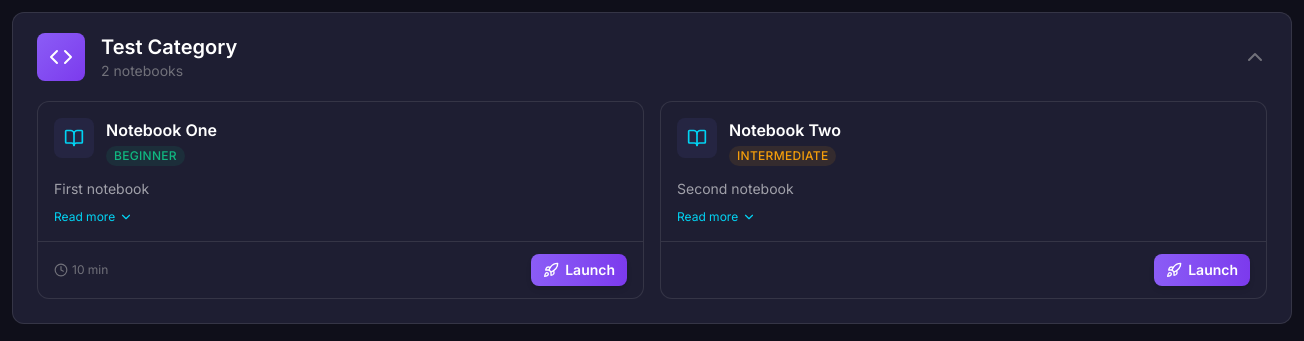
it: CategoryAccordion › collapses when header is clicked again
This screenshot has width=1304, height=341.
Expected: the heading "Notebook One" is shown, top-left (106, 118), bottom-right (217, 142)
What coordinates should you click on to do the following:
click the button "Test Category 2 notebooks"
I would click on:
 (61, 57)
Its box is top-left (13, 13), bottom-right (1291, 101).
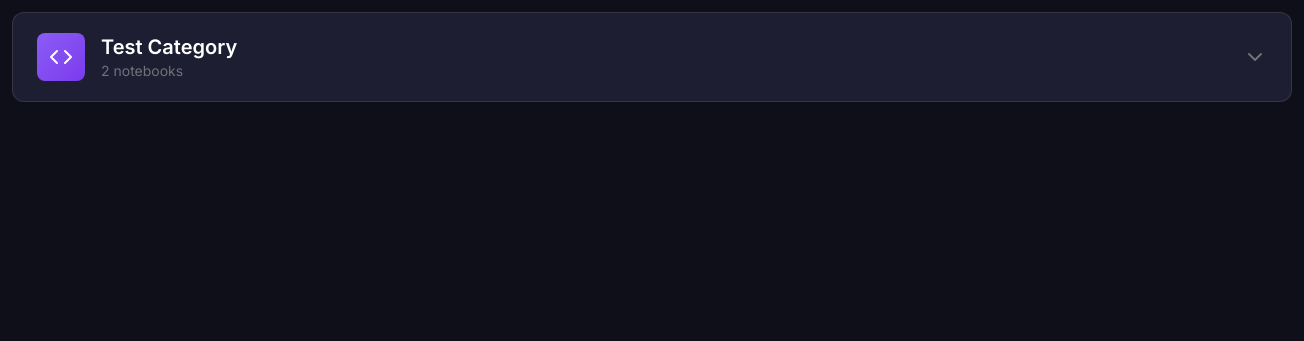
Expected: the heading "Notebook One" is gone
